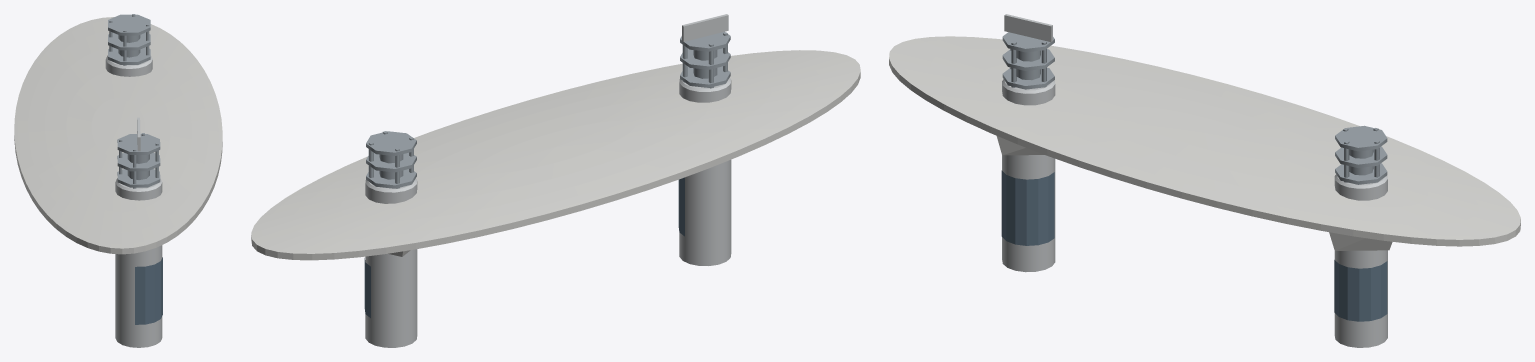
3 views of the same model, side by side, from view 1: azimuth 30°, elevation 25°; view 2: azimuth 150°, elevation 25°; view 3: azimuth 270°, elevation 25° (orthographic). The views are drawn at different scales.
Visible parts, largest first — view 1: the-cloud-at-fashion-show; view 2: the-cloud-at-fashion-show; view 3: the-cloud-at-fashion-show.
Boxes of the visible parts, box(x1,y1,x2,y2) form: the-cloud-at-fashion-show: box(14, 14, 222, 347); the-cloud-at-fashion-show: box(251, 14, 860, 347); the-cloud-at-fashion-show: box(889, 14, 1520, 347).
Bounding box in the file's own units: 83.14 × 54.41 × 129.
